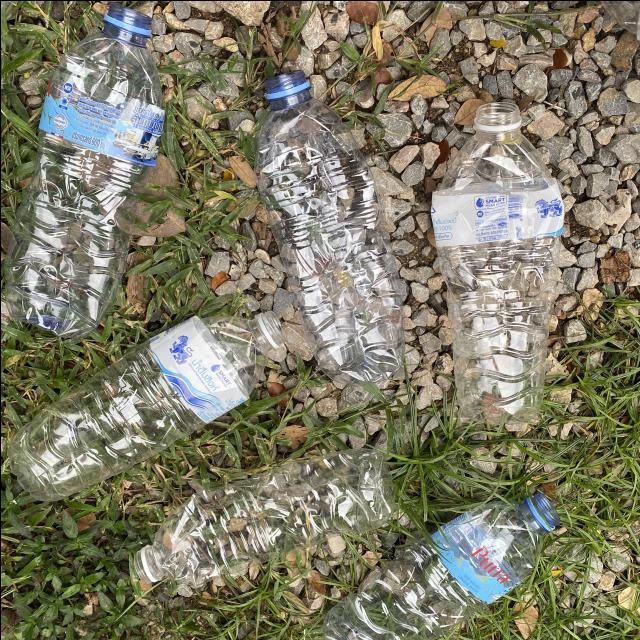plastik: (4, 3, 164, 337), (7, 310, 286, 500), (255, 71, 402, 385), (431, 99, 563, 424), (133, 448, 394, 586), (322, 492, 559, 640)
